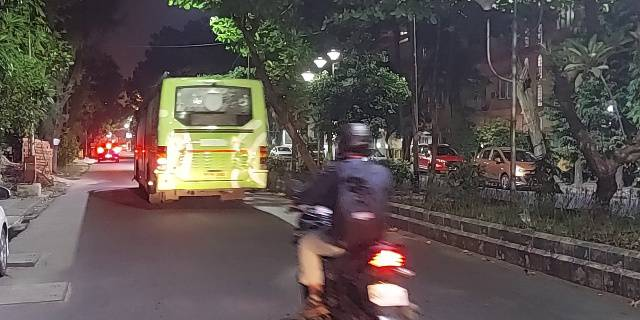Bus: (129, 75, 268, 203)
Motorbike: (291, 122, 422, 319)
